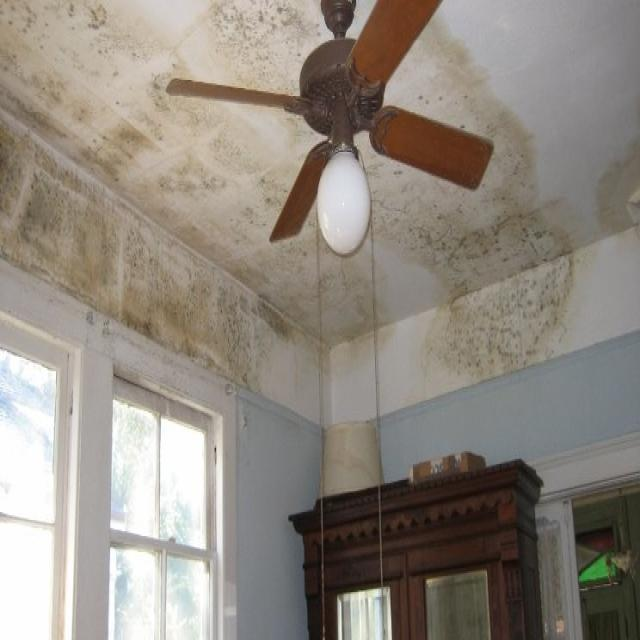dampness: (0, 1, 387, 380), (363, 27, 580, 380), (601, 152, 639, 236)
